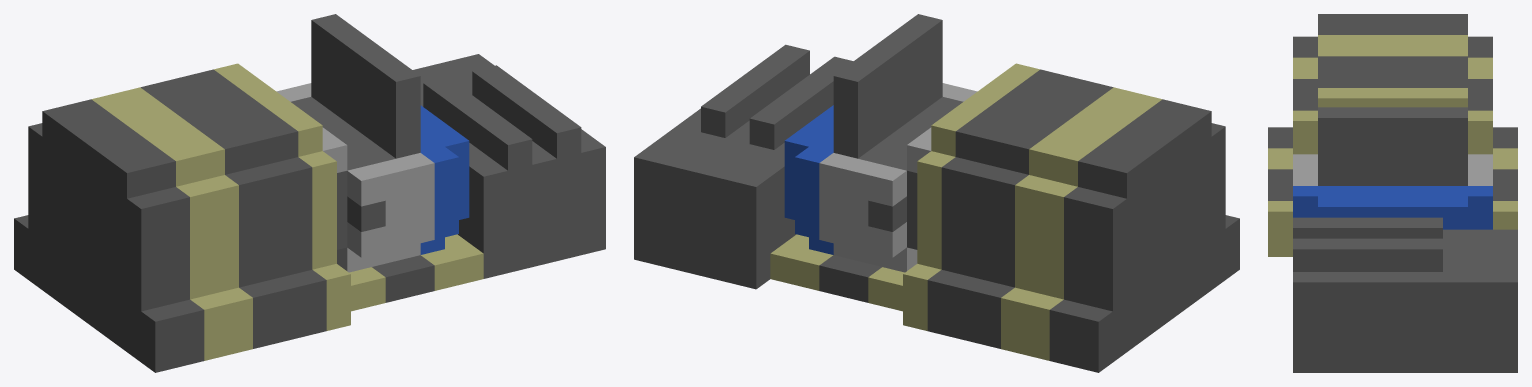
File: chr_bedroll1.obj
The picture shows the model from 3 angles, left to right: view 1: azimuth 30°, elevation 25°; view 2: azimuth 150°, elevation 25°; view 3: azimuth 270°, elevation 25°; orthographic projection. The views are drawn at different scales.
Size of the model in its own units: 19 by 8 by 10.
